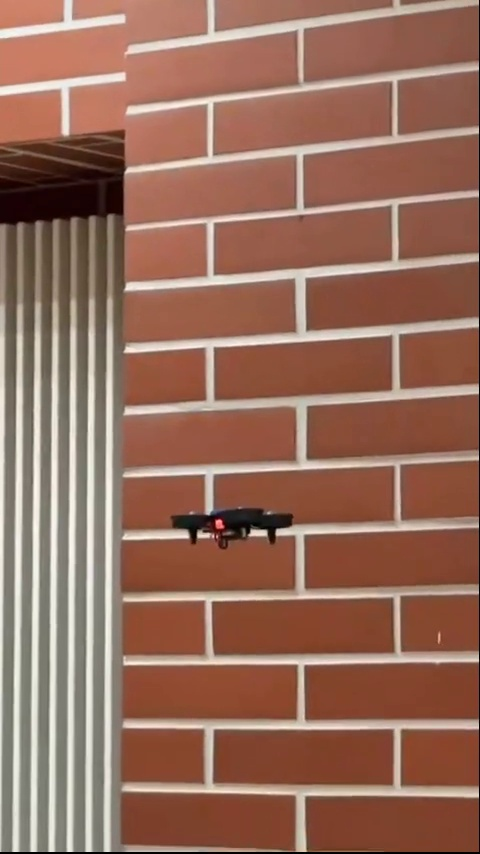drone: (168, 501, 300, 551)
